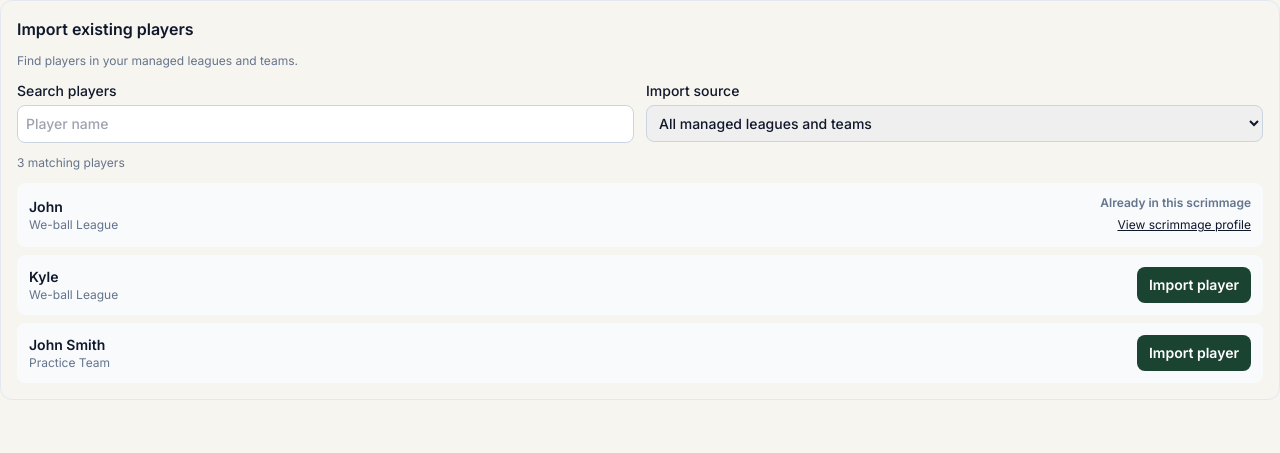
Test: imports John Smith with the correct source and refreshes its imported marker
What coordinates should you click on to do the following:
click the button "Import player" in the row of "John Smith"
I would click on:
 (1194, 353)
Its box is [1137, 335, 1251, 371].
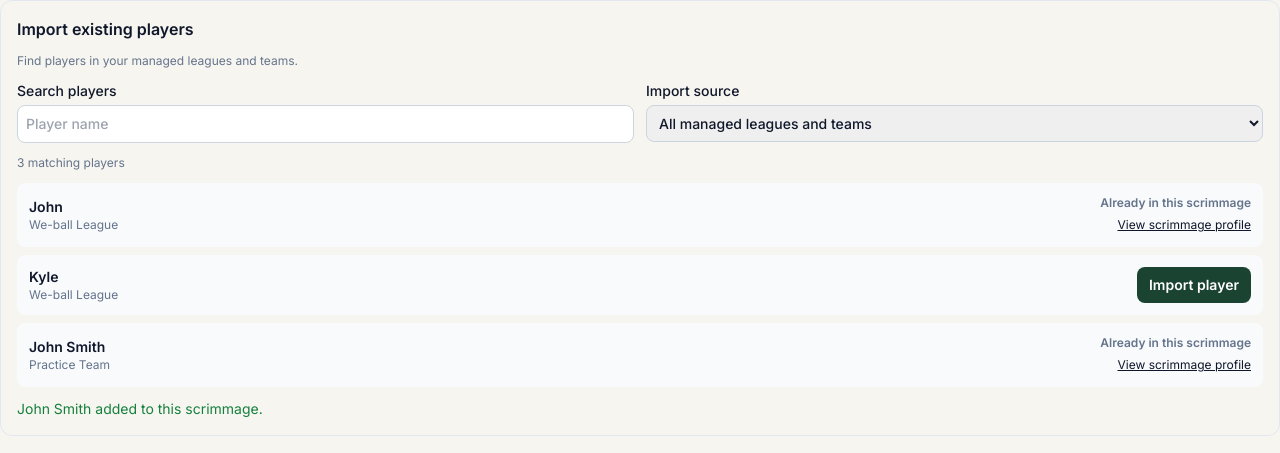
Expected: the 2nd text "Already in this scrimmage" is shown, [1100, 335, 1251, 351]
